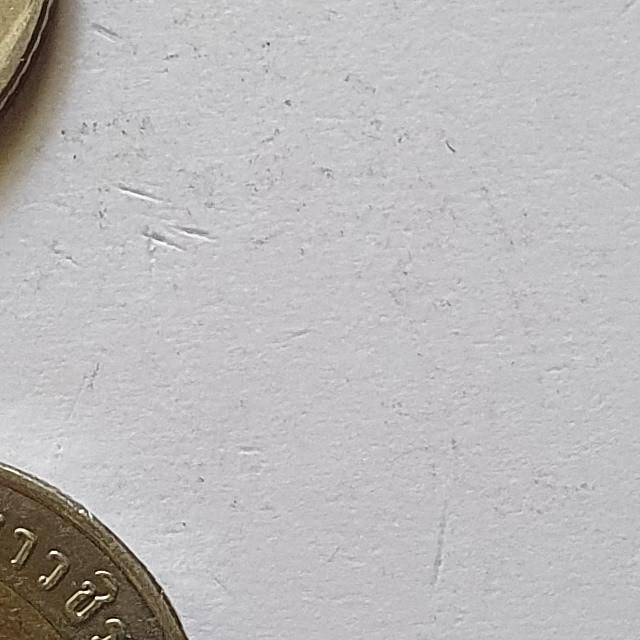10 Bath: (1, 447, 205, 640)
